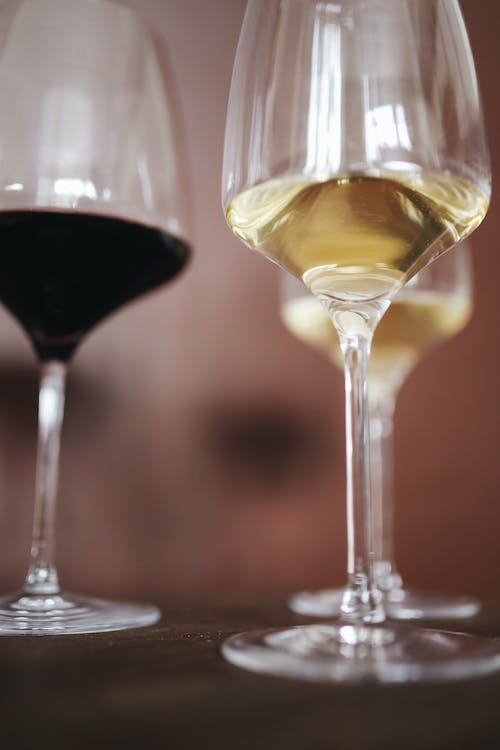alcohol: (218, 0, 500, 684), (0, 0, 197, 636), (276, 234, 484, 620)
